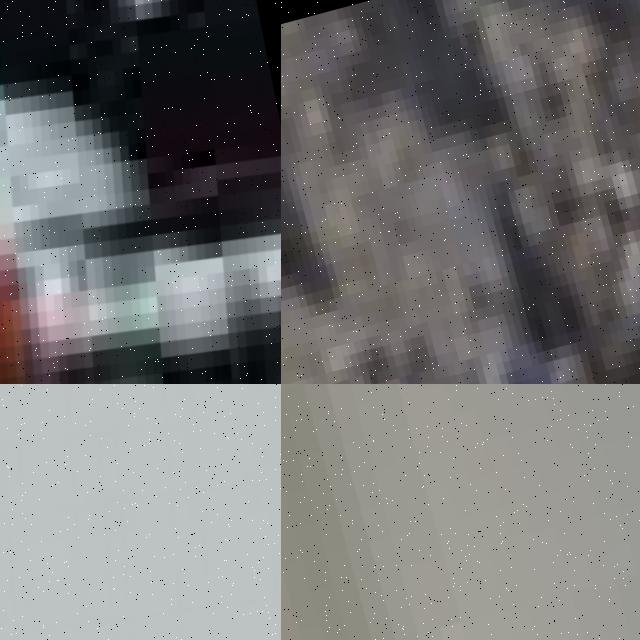0: (0, 0, 281, 384)
drone: (0, 384, 281, 640)
